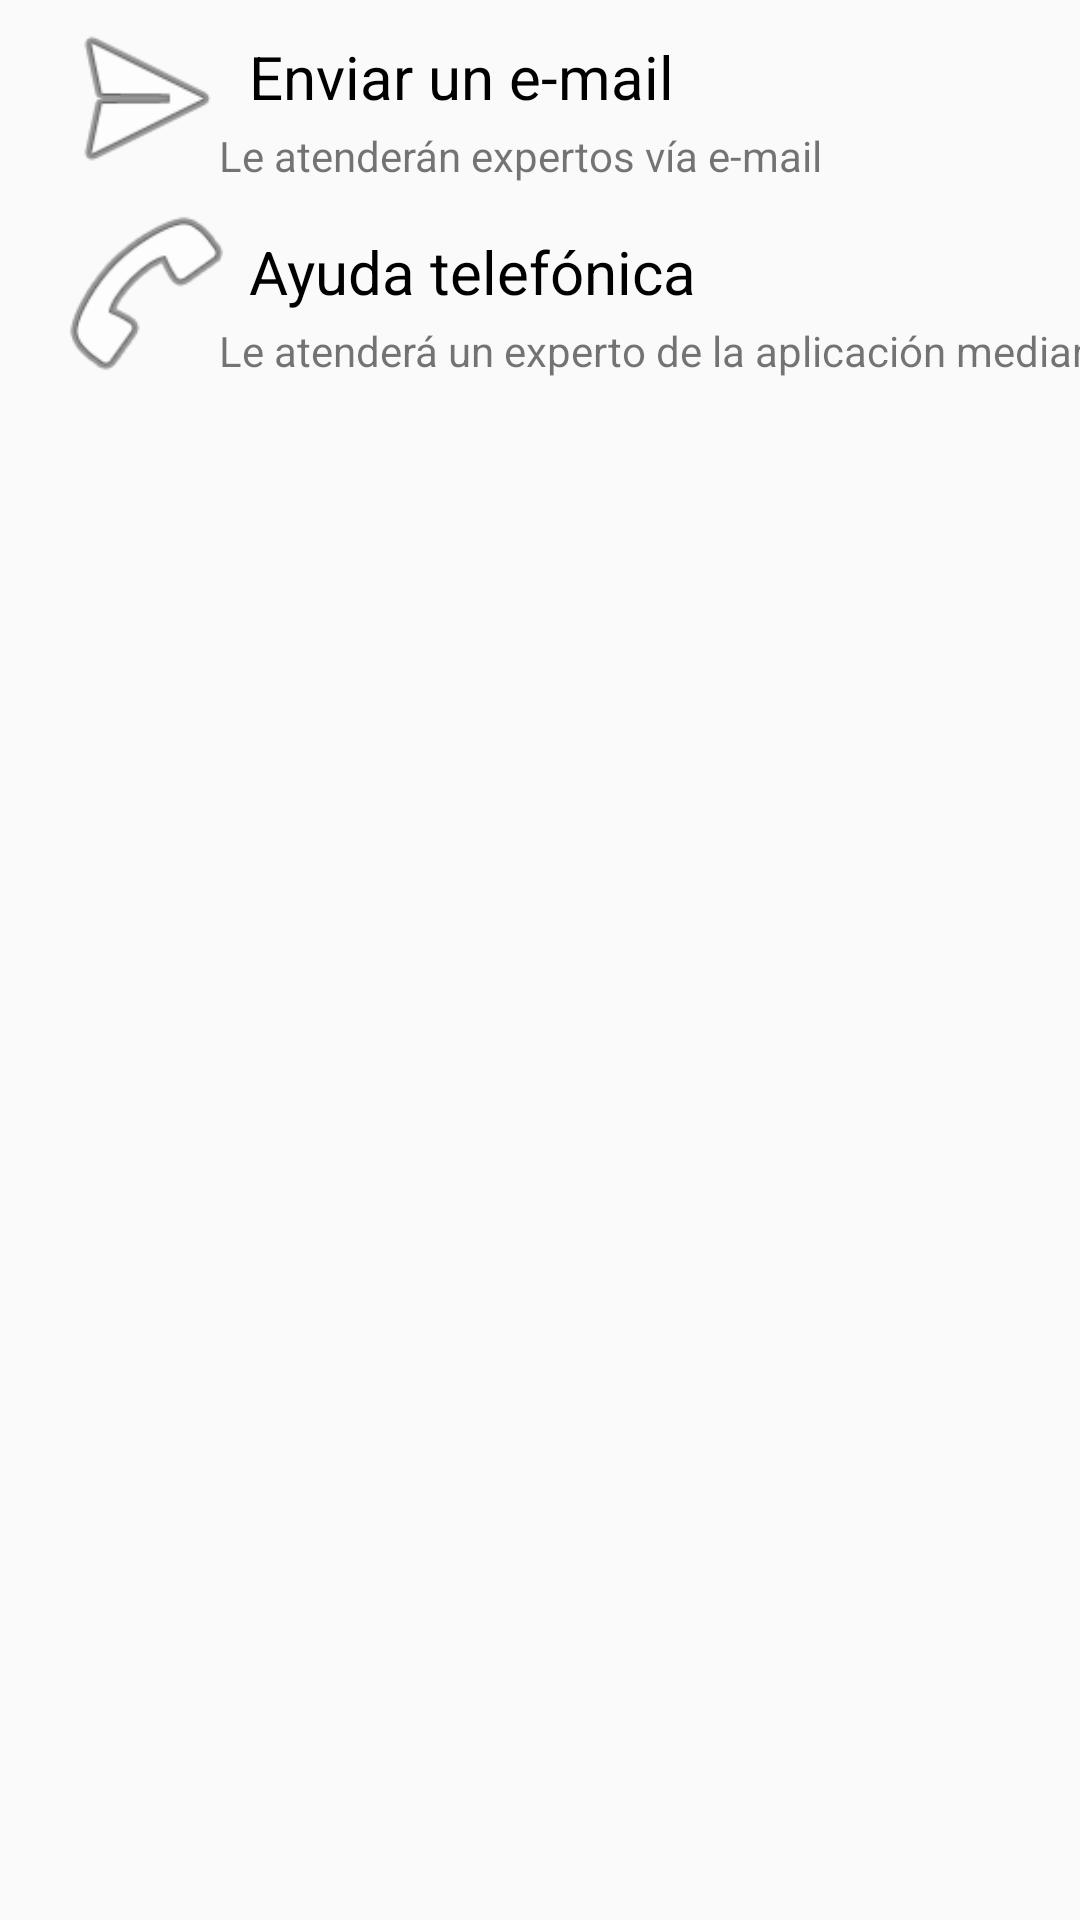

Locate icon controls on the screen. Image size 1080px x 1920px, boxes as rect(x1, y1, x2, y2).
call: rect(70, 217, 241, 370)
send: rect(85, 37, 241, 172)
